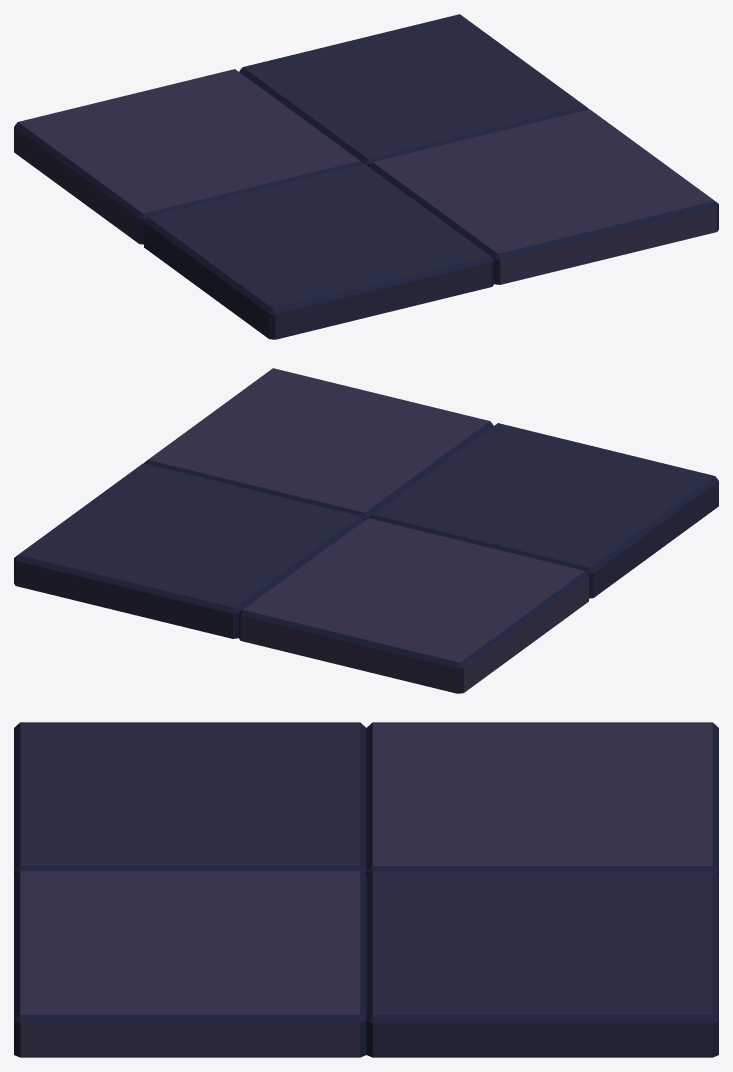
File: Floor_8x8.fbx
The picture shows the model from 3 angles, top to bottom: view 1: azimuth 30°, elevation 25°; view 2: azimuth 150°, elevation 25°; view 3: azimuth 270°, elevation 25°; orthographic projection. The views are drawn at different scales.
Parts seen in each view (by area): view 1: Floor_8x8; view 2: Floor_8x8; view 3: Floor_8x8.
Part boxes in pixels (bbox=[...]): Floor_8x8: bbox=[14, 14, 718, 339]; Floor_8x8: bbox=[14, 368, 718, 693]; Floor_8x8: bbox=[14, 722, 718, 1057].
Bounding box in the file's own units: 8 × 0.5 × 8.
1 material, 1 textured.
